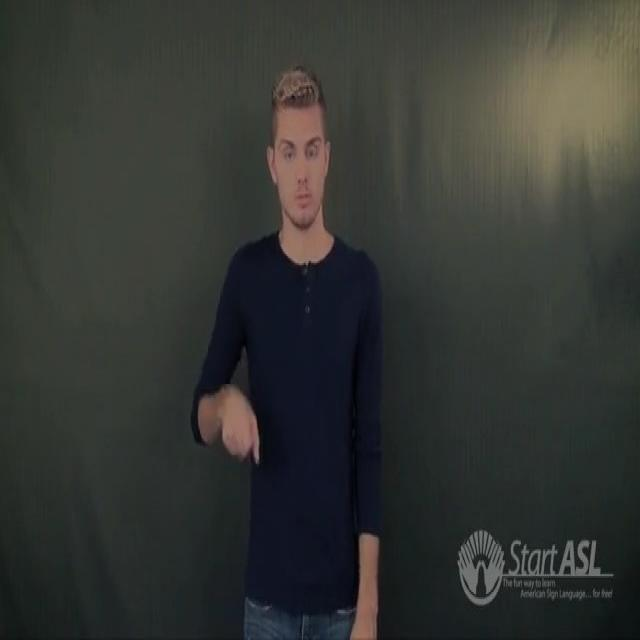bag: (182, 357, 276, 475)
